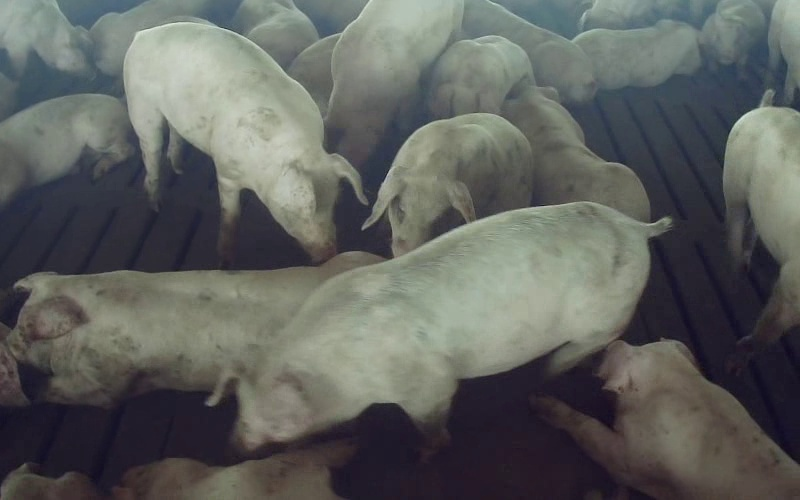pig: (210, 202, 670, 450), (123, 22, 366, 266), (8, 251, 381, 406), (530, 340, 799, 499), (362, 113, 531, 256), (502, 86, 649, 220), (0, 94, 133, 209), (462, 0, 596, 103), (428, 35, 534, 118), (573, 20, 700, 88), (699, 0, 765, 69)
